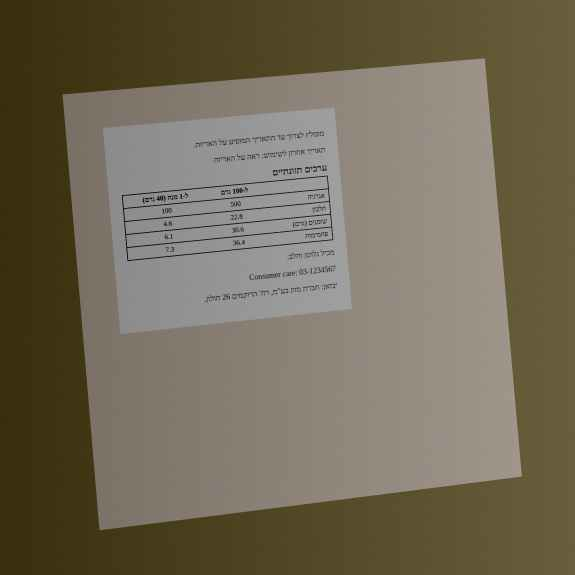carbs: (232, 237, 246, 248)
energy: (229, 199, 242, 209)
fat: (230, 224, 245, 235)
protein: (229, 212, 244, 222)
